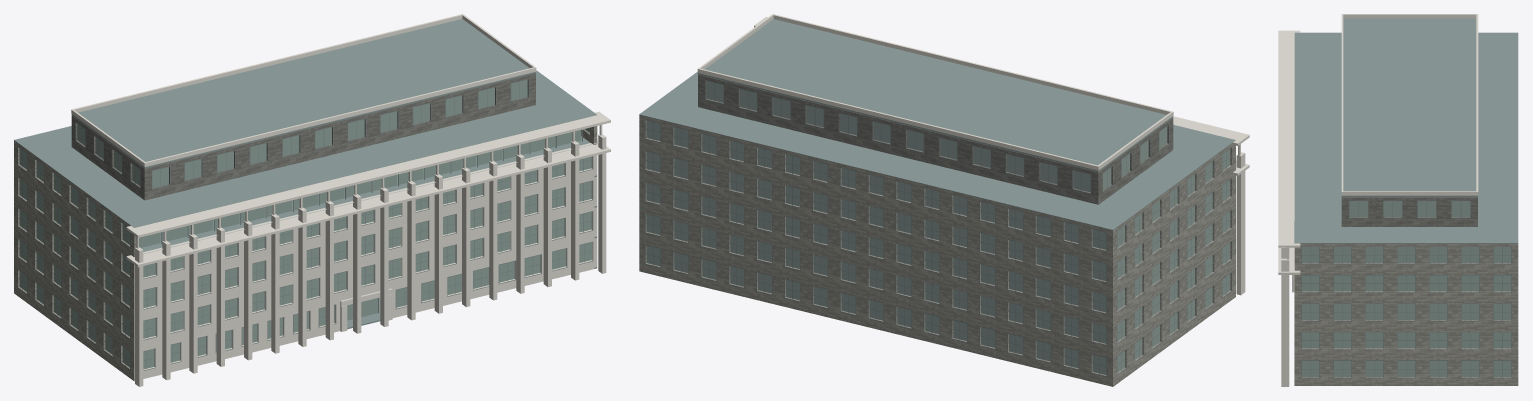
3 renders of one model, left to right at view 1: azimuth 30°, elevation 25°; view 2: azimuth 150°, elevation 25°; view 3: azimuth 270°, elevation 25°, orthographic. The views are drawn at different scales.
Visible parts, largest first — view 1: studentUnion__cream, studentUnion__roof, studentUnion__glass, studentUnion__stone, studentUnion__rough, studentUnion__frame; view 2: studentUnion__stone, studentUnion__roof, studentUnion__glass, studentUnion__frame, studentUnion__rough, studentUnion__cream; view 3: studentUnion__roof, studentUnion__stone, studentUnion__glass, studentUnion__cream, studentUnion__frame, studentUnion__rough.
Boxes of the visible parts, x1,y1,x2,y2 form: studentUnion__cream: (71,14,610,386); studentUnion__roof: (14,19,597,329); studentUnion__glass: (19,79,591,369); studentUnion__stone: (14,126,597,380); studentUnion__rough: (71,73,535,200); studentUnion__frame: (17,78,593,370); studentUnion__stone: (639,116,1235,386); studentUnion__roof: (639,19,1235,272); studentUnion__glass: (646,81,1230,374); studentUnion__frame: (645,80,1232,376); studentUnion__rough: (698,74,1173,204); studentUnion__cream: (697,14,1249,295); studentUnion__roof: (1294,18,1518,243); studentUnion__stone: (1294,243,1518,385); studentUnion__glass: (1302,201,1510,376); studentUnion__cream: (1278,14,1478,386); studentUnion__frame: (1301,200,1511,378); studentUnion__rough: (1341,197,1477,226).
Bounding box in the file's own units: 58.24 × 22.46 × 27.52.
Materials: 7 (2 with a texture image).
